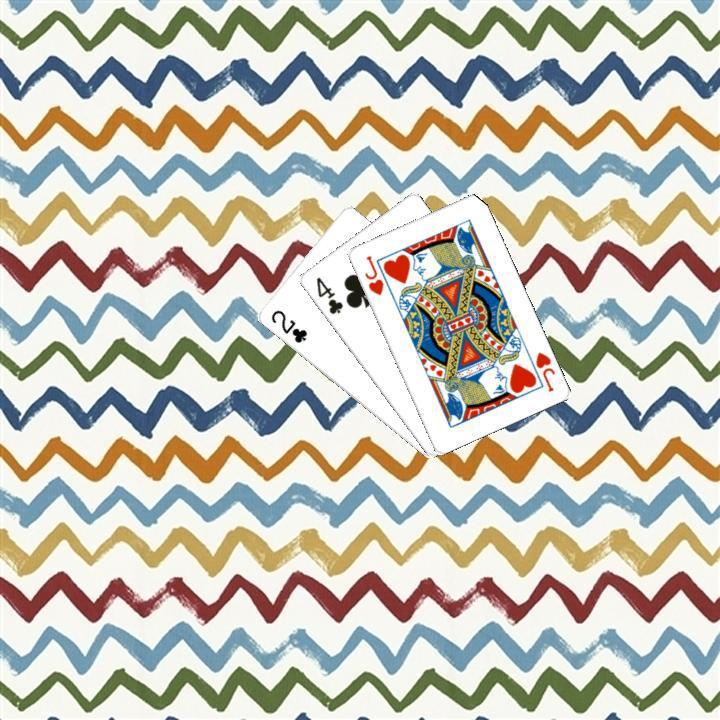2: (266, 305, 309, 345)
4: (311, 272, 345, 316)
J: (531, 347, 557, 394), (360, 251, 385, 297)
